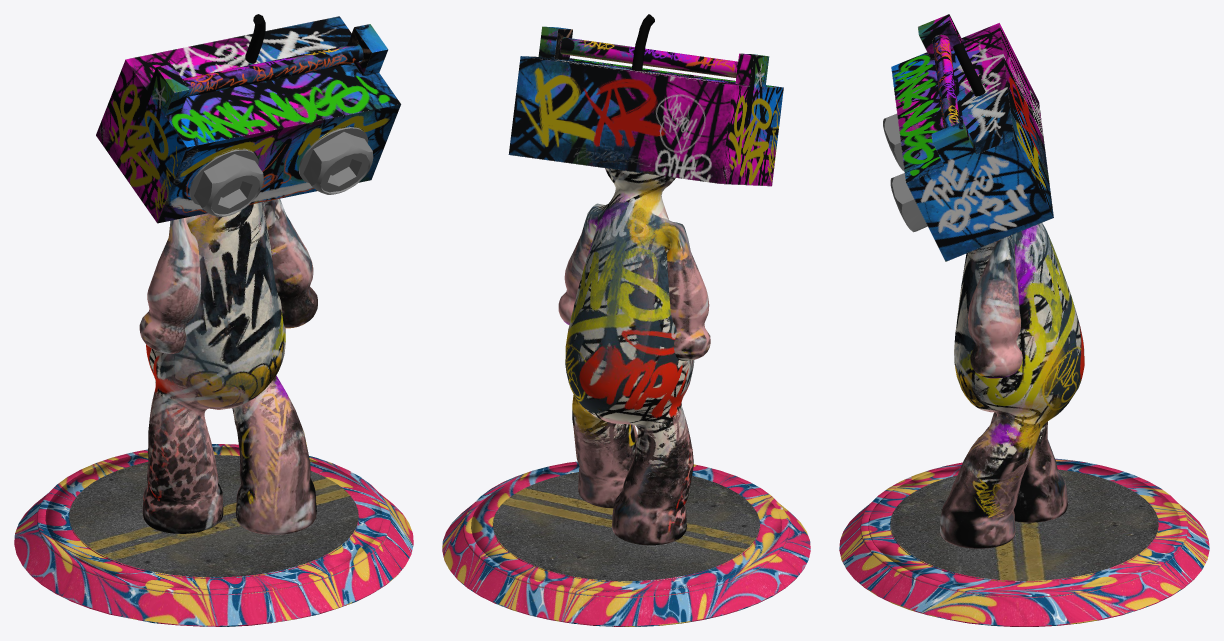
3 renders of one model, left to right at view 1: azimuth 30°, elevation 25°; view 2: azimuth 150°, elevation 25°; view 3: azimuth 270°, elevation 25°, orthographic. The views are drawn at different scales.
Visible parts, largest first — view 1: BBody; view 2: BBody; view 3: BBody.
Part boxes in pixels (x1=…): BBody: x1=14, y1=14, x2=413, y2=626; BBody: x1=442, y1=14, x2=810, y2=626; BBody: x1=839, y1=14, x2=1209, y2=626.
Size of the model in its own units: 1.45 by 2.2 by 1.45.
Materials: 6 (4 with a texture image).
